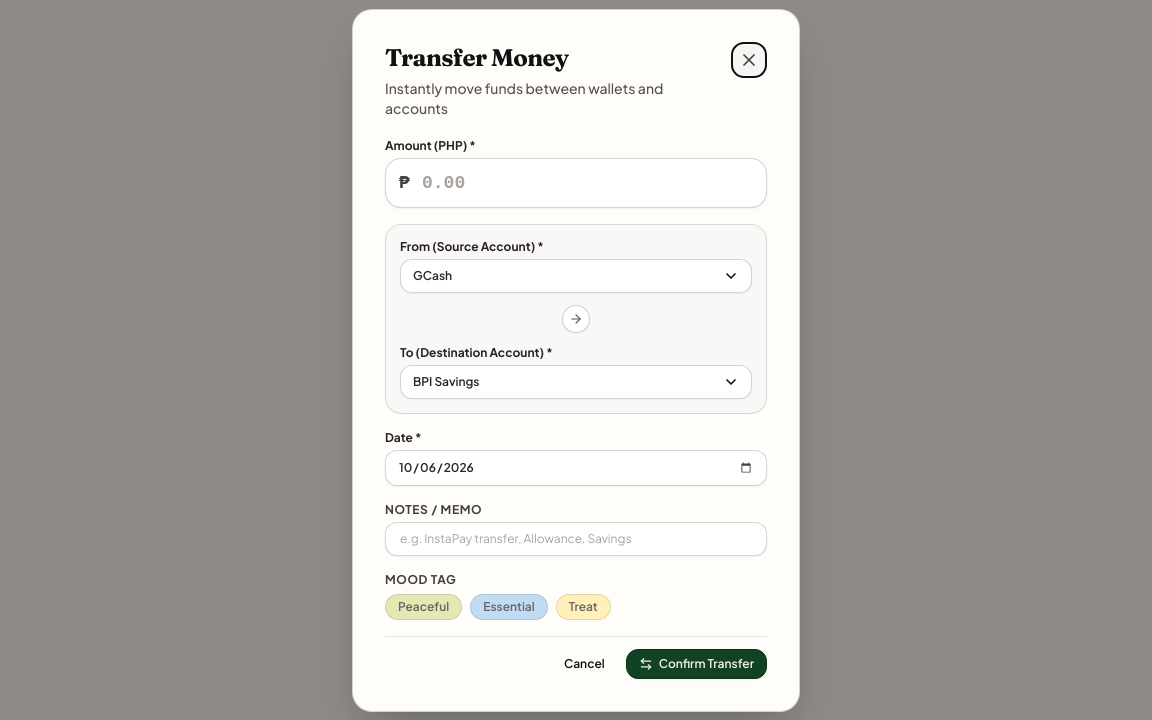
Test: TransferModal Component (TDD) › Validation & Error Rendering › renders error messages directly beneath fromAccount, toAccount, and date inputs when unselected
The image size is (1152, 720).
Note: Fill valid amount
In the number field with test id "transfer-amount-input": x=576, y=182 [385,158,767,208], type "500"
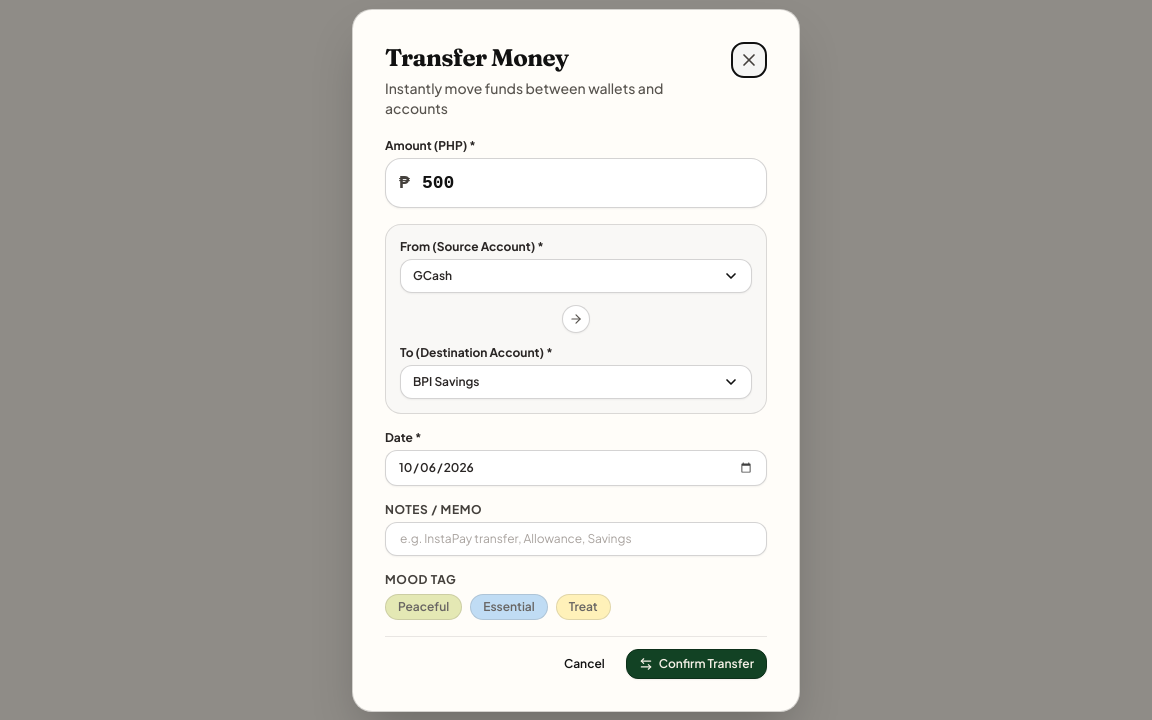
Note: Clear fromAccount, toAccount, and date
Select "Select source account" in the dropdown with test id "transfer-from-account-select": x=576, y=276 [400,258,752,292]
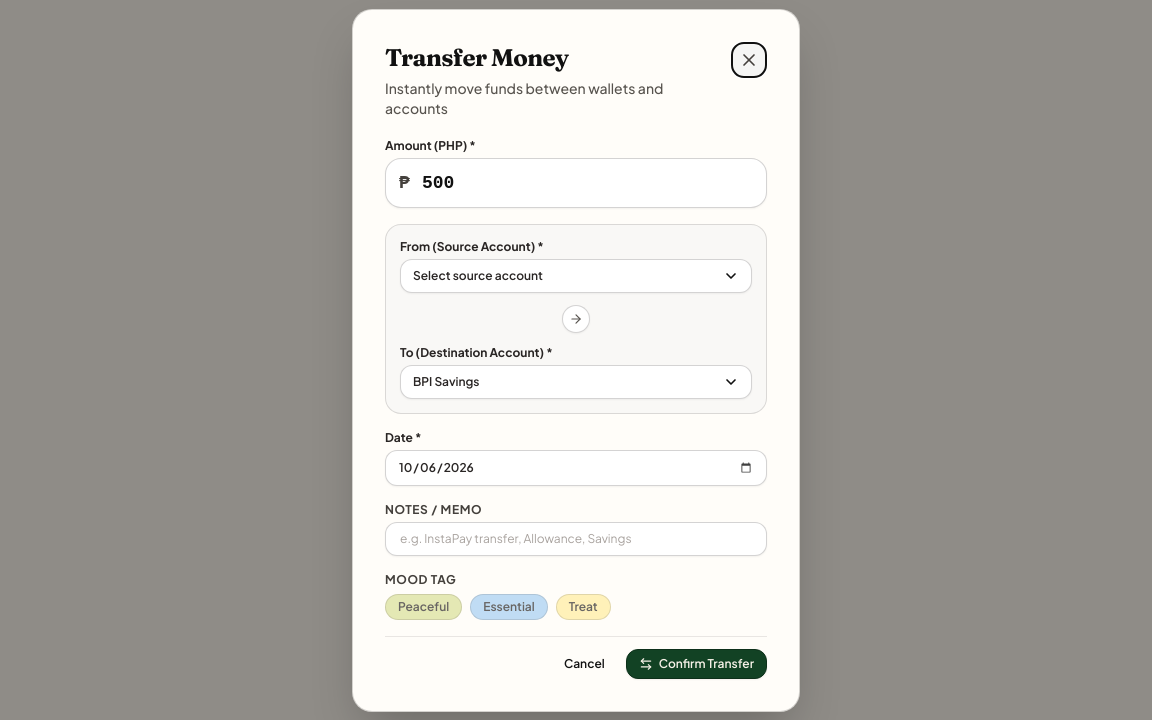
Select "Select destination account" in the dropdown with test id "transfer-to-account-select": x=576, y=382 [400,364,752,398]
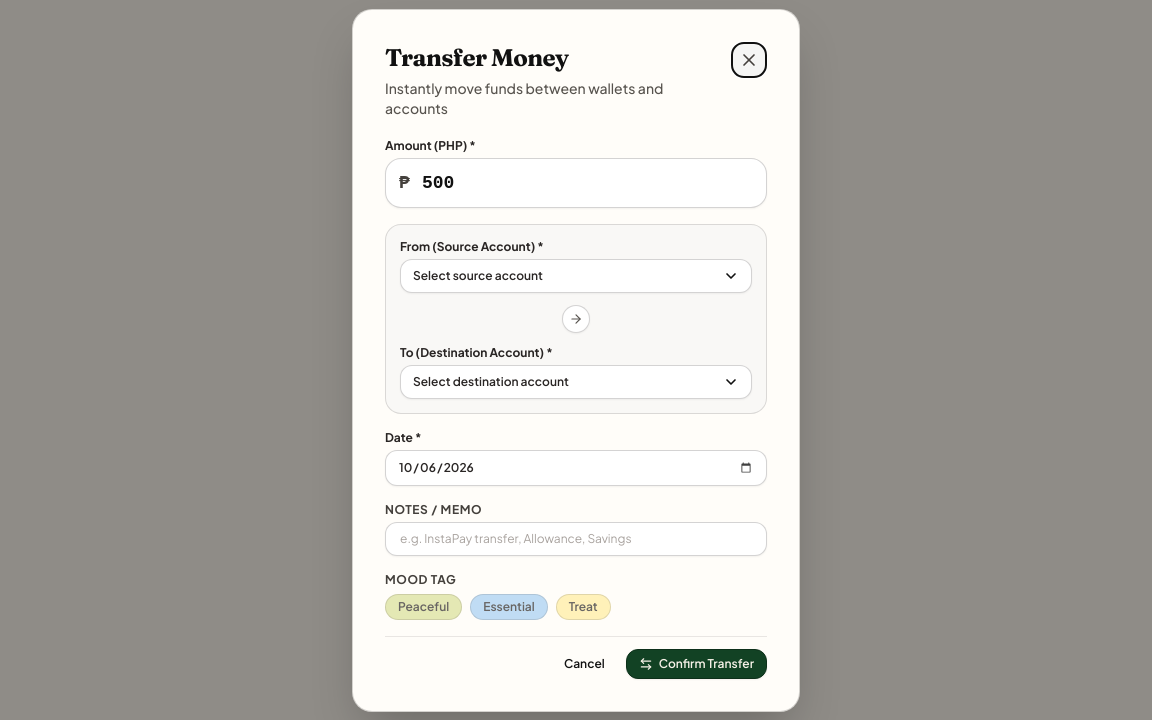
Clear the date field with test id "transfer-date-input": x=576, y=468 [385,450,767,486]
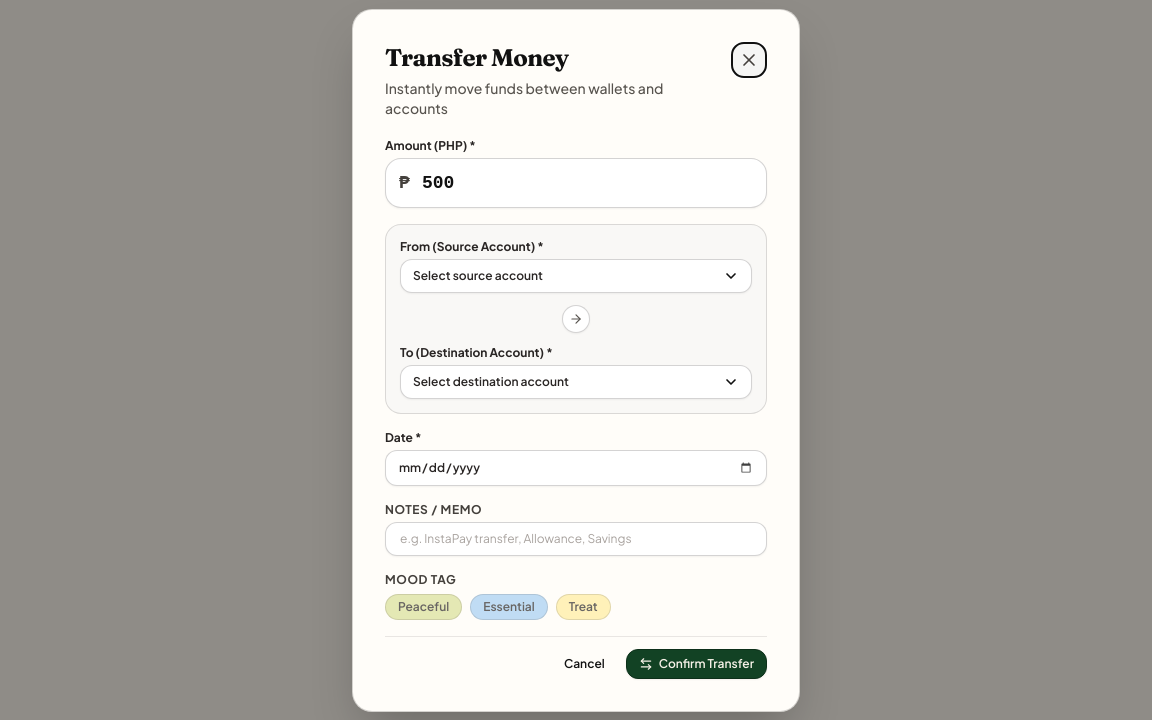
Click the button with test id "transfer-submit-btn": x=696, y=664 [626,648,767,678]
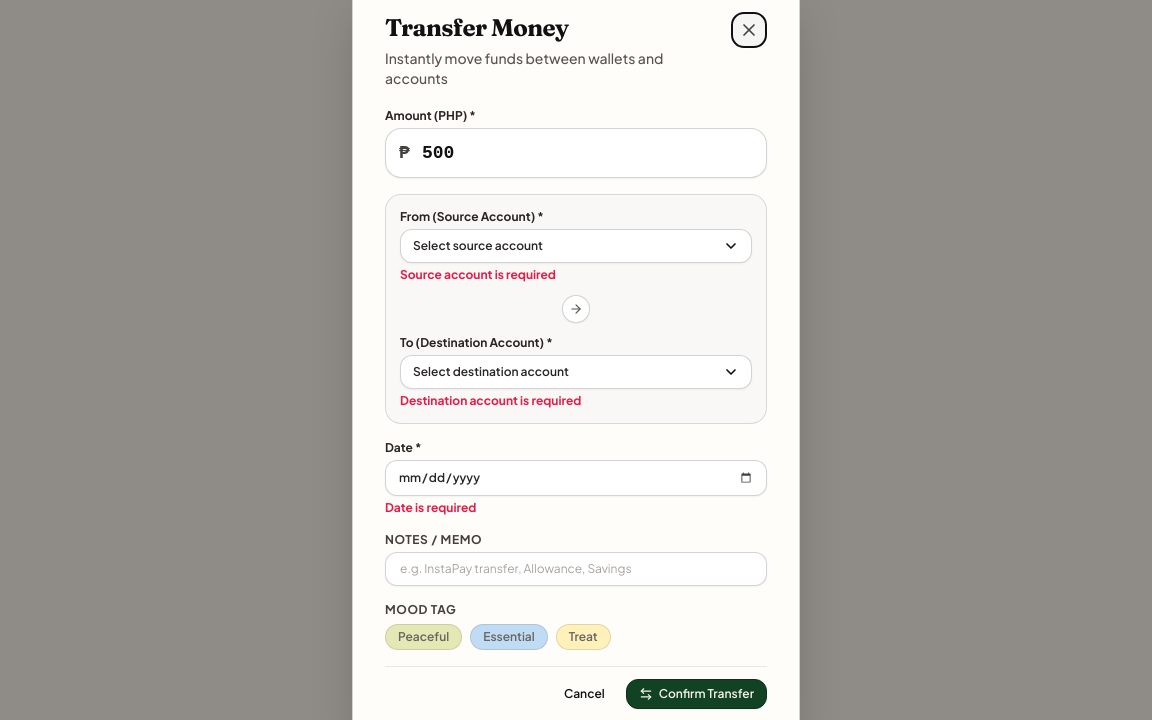
Result: the text with test id "transfer-from-account-error" reads "Source account is required" at [400,266,556,282]
Result: the text with test id "transfer-to-account-error" reads "Destination account is required" at [400,392,581,408]
Result: the text with test id "transfer-date-error" reads "Date is required" at [385,500,476,514]
